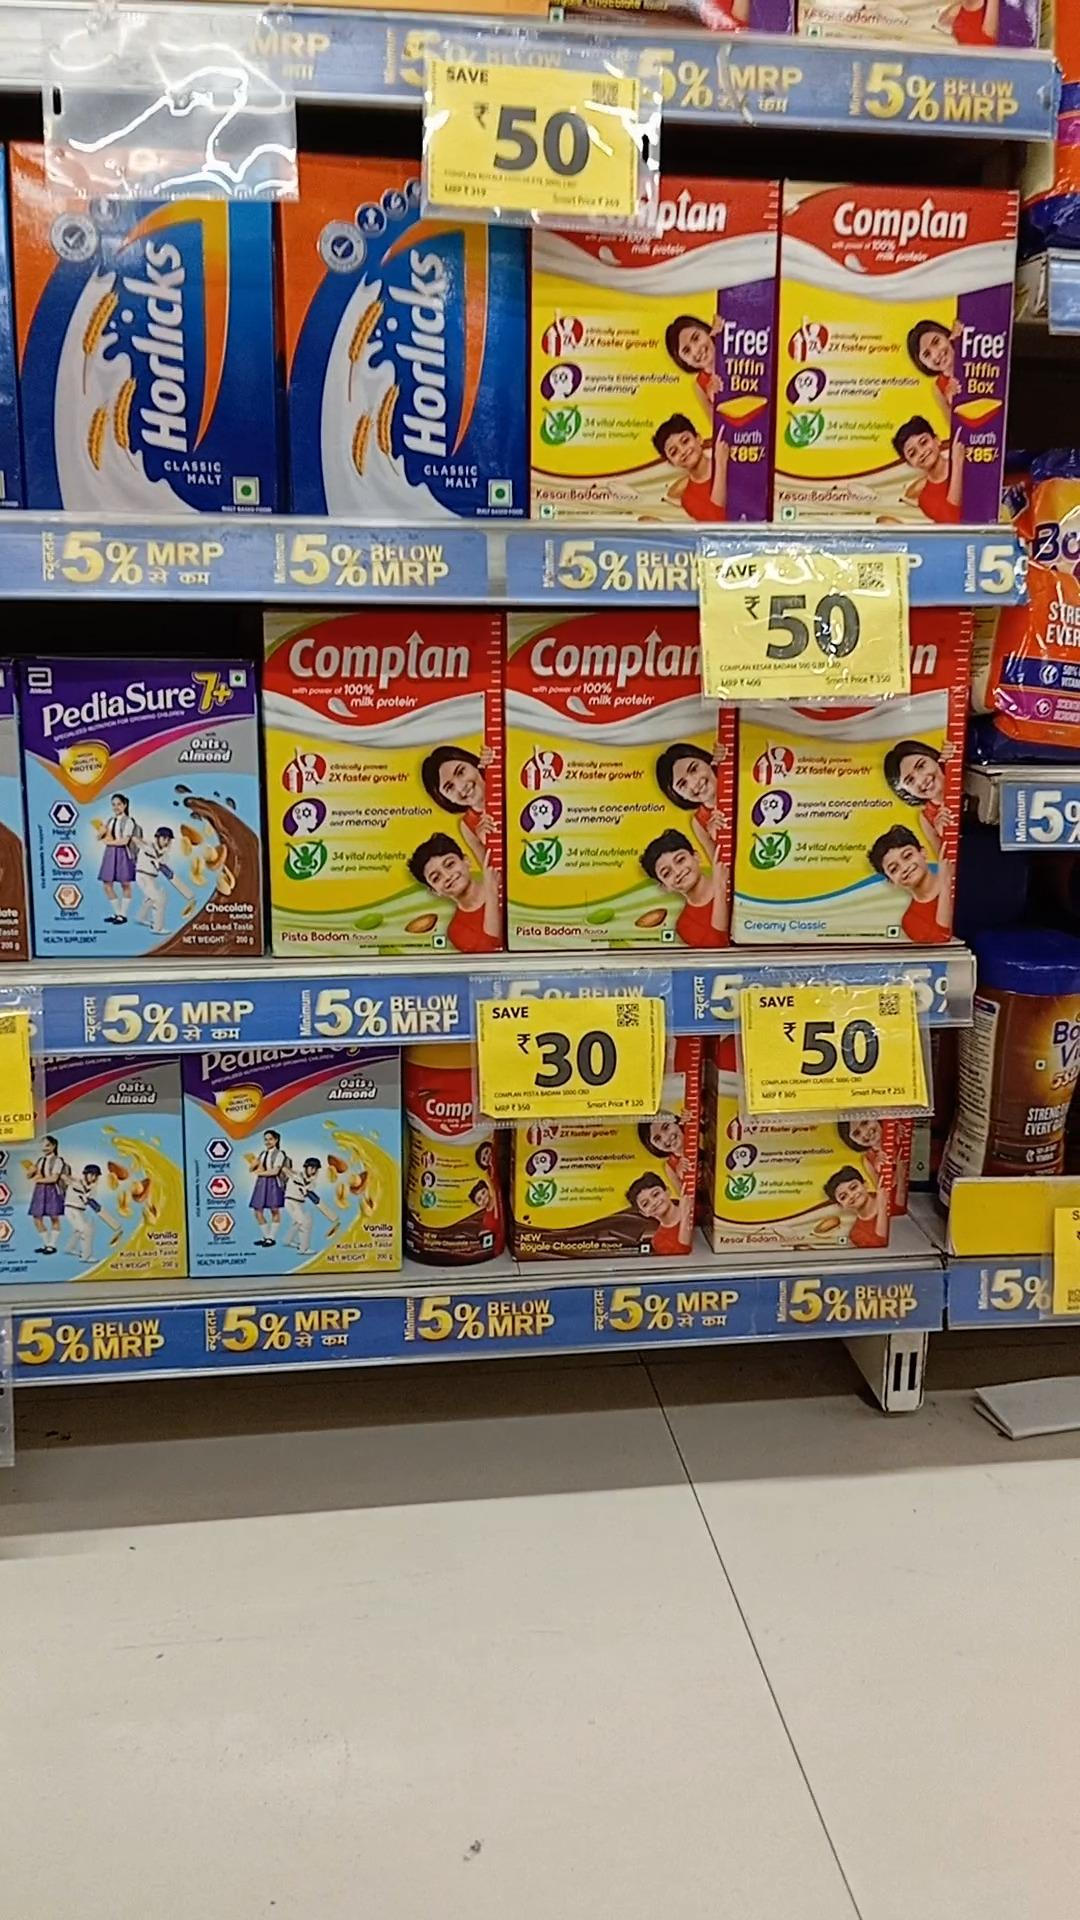COMPLAN_CHOCOLATE_200_GMS_JAR: (409, 1042, 506, 1265)
COMPLAN_CREAMY_CLASSIC_500_G_PACK: (740, 683, 953, 951)
COMPLAN_KESAR_BADAM_500_GMS_PACK: (529, 182, 786, 526), (791, 190, 1014, 524)
COMPLAN_PISTA_BADAM_500_GMS_PACK: (265, 617, 500, 952), (505, 613, 733, 955)
HORLICK_CLASSIC_MALT_500_G_PACK: (280, 157, 526, 524), (22, 153, 276, 509)
PEDIASURE_7_PLUS_CHOCOLATE_400_G_PACK: (21, 659, 260, 952)
